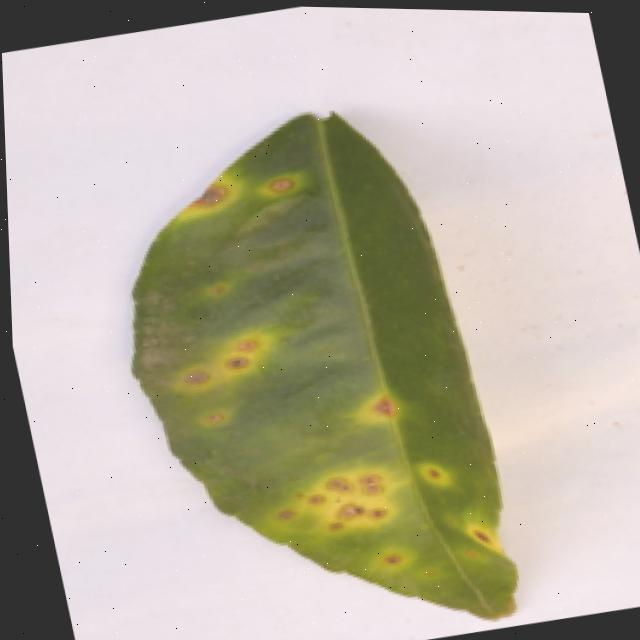canker: (132, 116, 514, 616), (236, 422, 523, 601), (156, 315, 295, 439), (350, 373, 411, 449), (256, 156, 309, 221), (180, 175, 241, 222)
